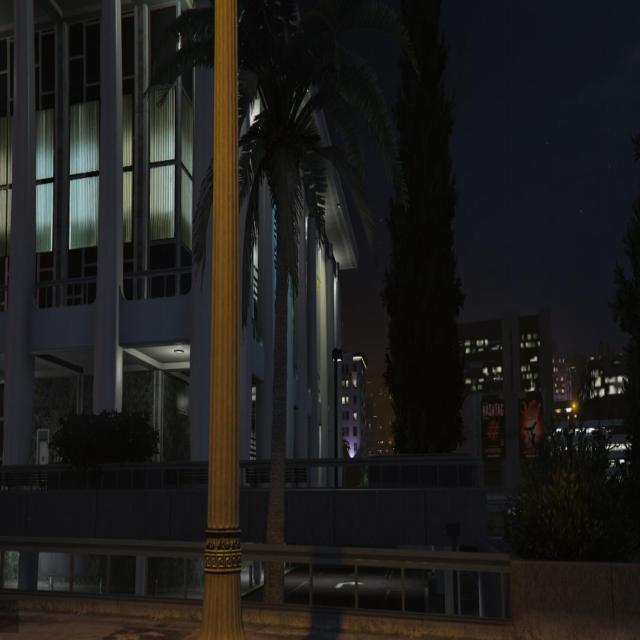pole: (194, 0, 253, 639), (261, 256, 292, 608)
